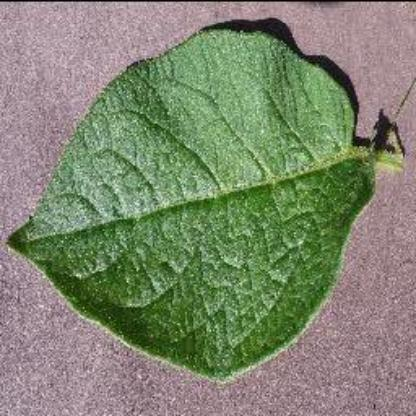Healthy-plant: (11, 24, 404, 384)
